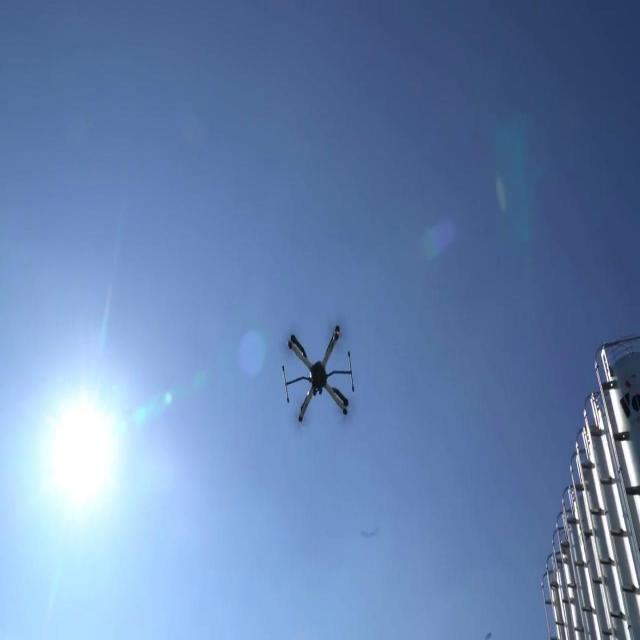UAV: (282, 322, 354, 425)
